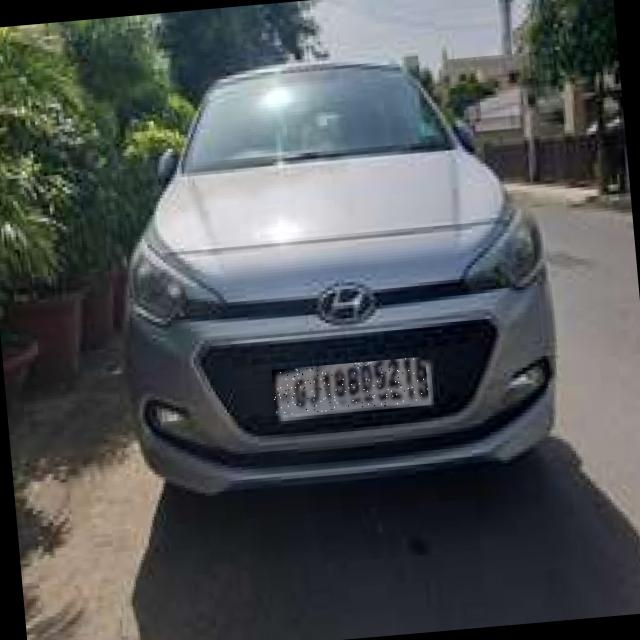Plate: (273, 357, 430, 416)
